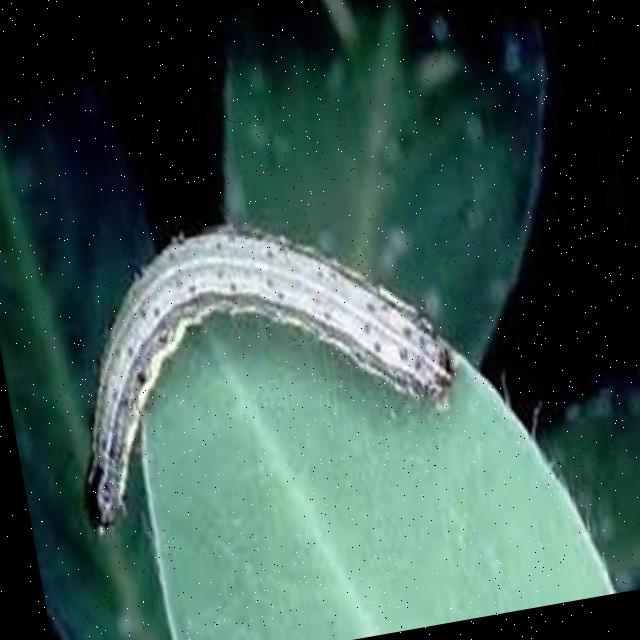worm: (41, 189, 478, 543)
